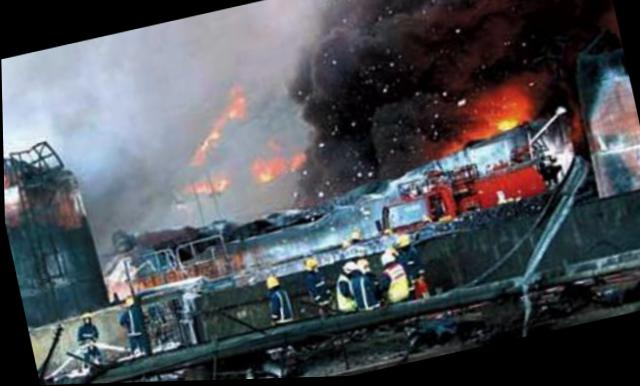fire: (468, 87, 532, 137), (181, 174, 225, 199), (247, 154, 284, 181)
